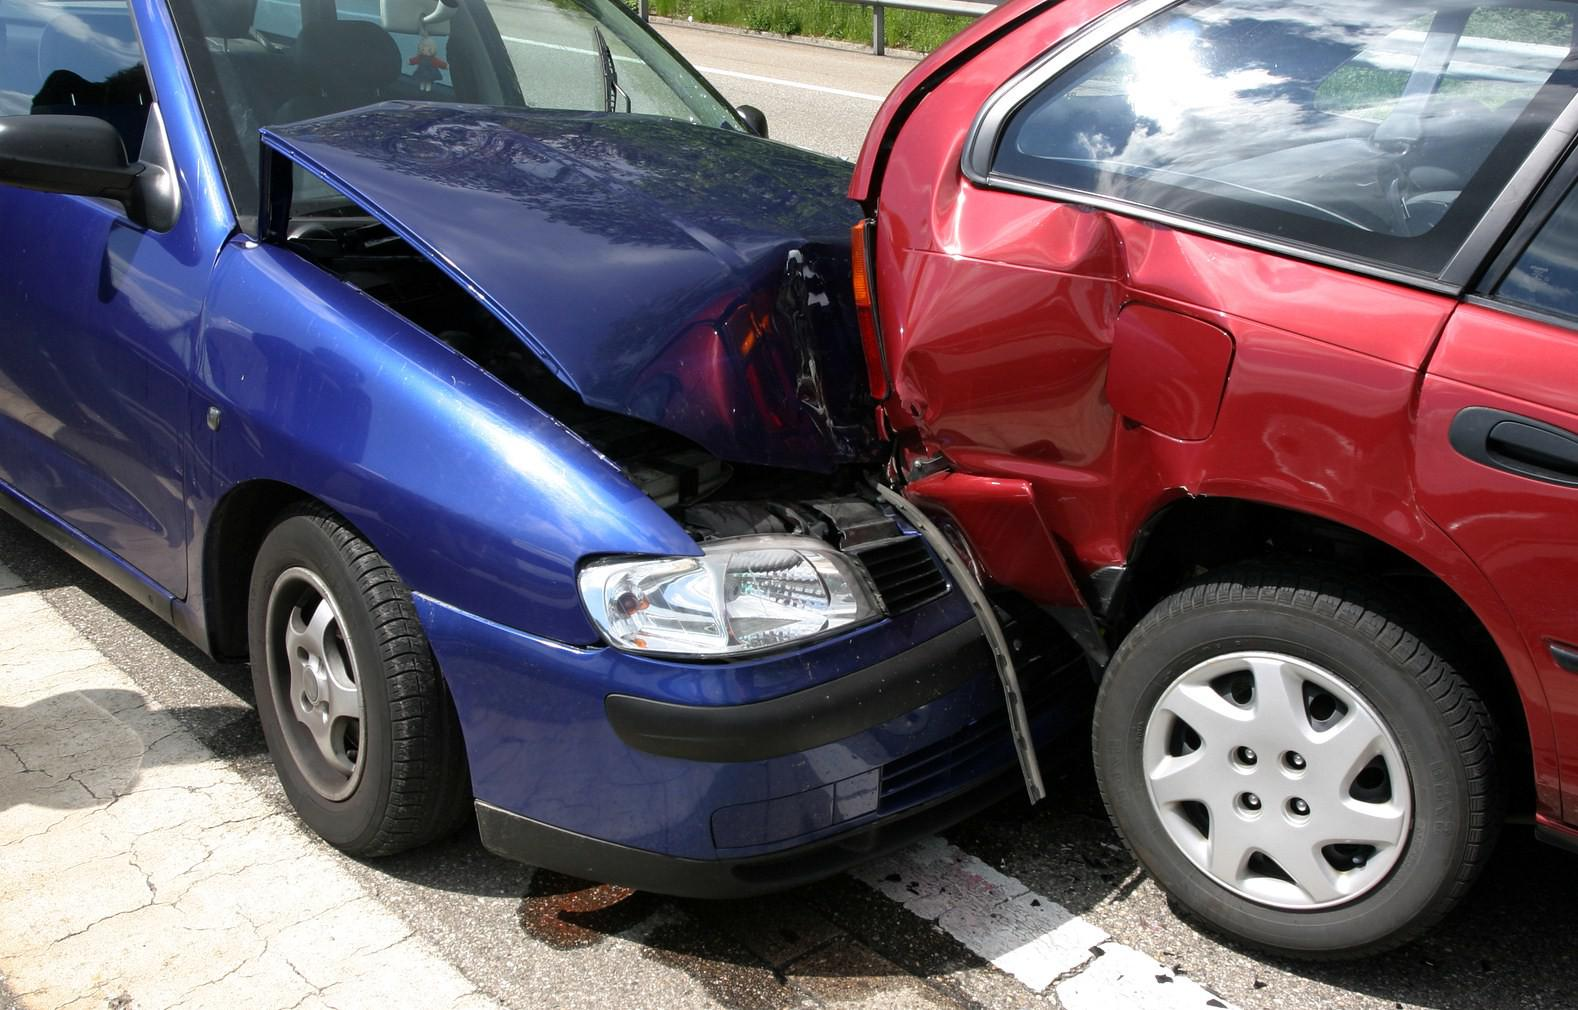bonnet-dent: (268, 83, 907, 479)
fender-dent: (201, 267, 610, 600)
quaterpanel-dent: (878, 133, 1433, 572)
